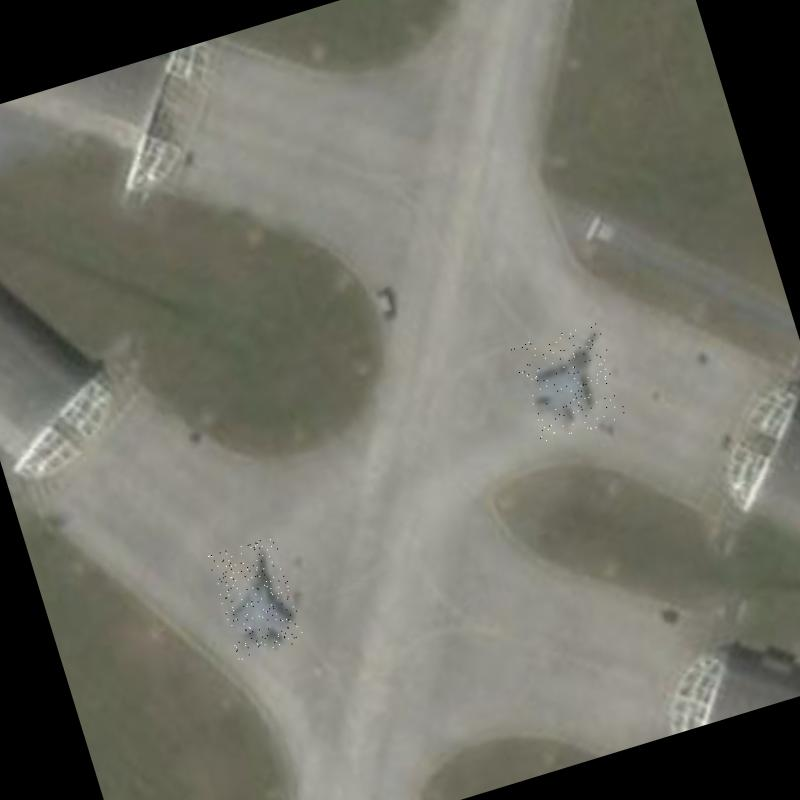A13: (511, 320, 628, 446), (207, 536, 306, 662)
